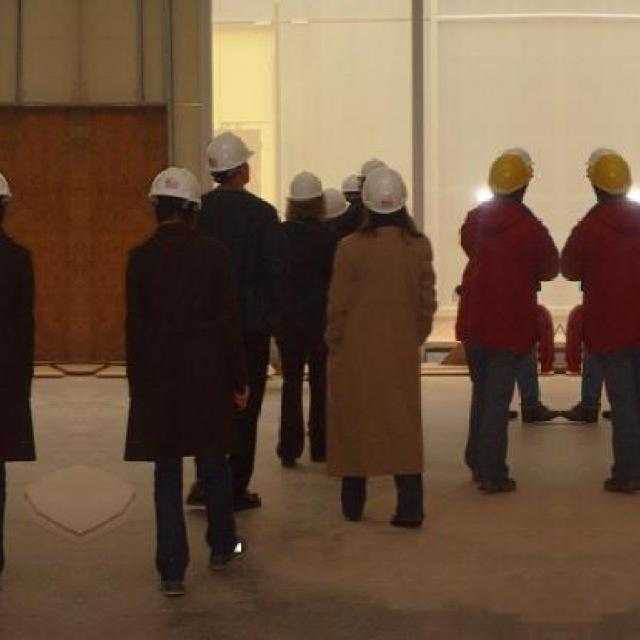helmet: (148, 166, 202, 228), (485, 147, 533, 201), (587, 147, 635, 201), (207, 134, 255, 186), (361, 168, 408, 220), (284, 170, 324, 218), (321, 184, 350, 224), (0, 166, 12, 229), (342, 174, 363, 203)
